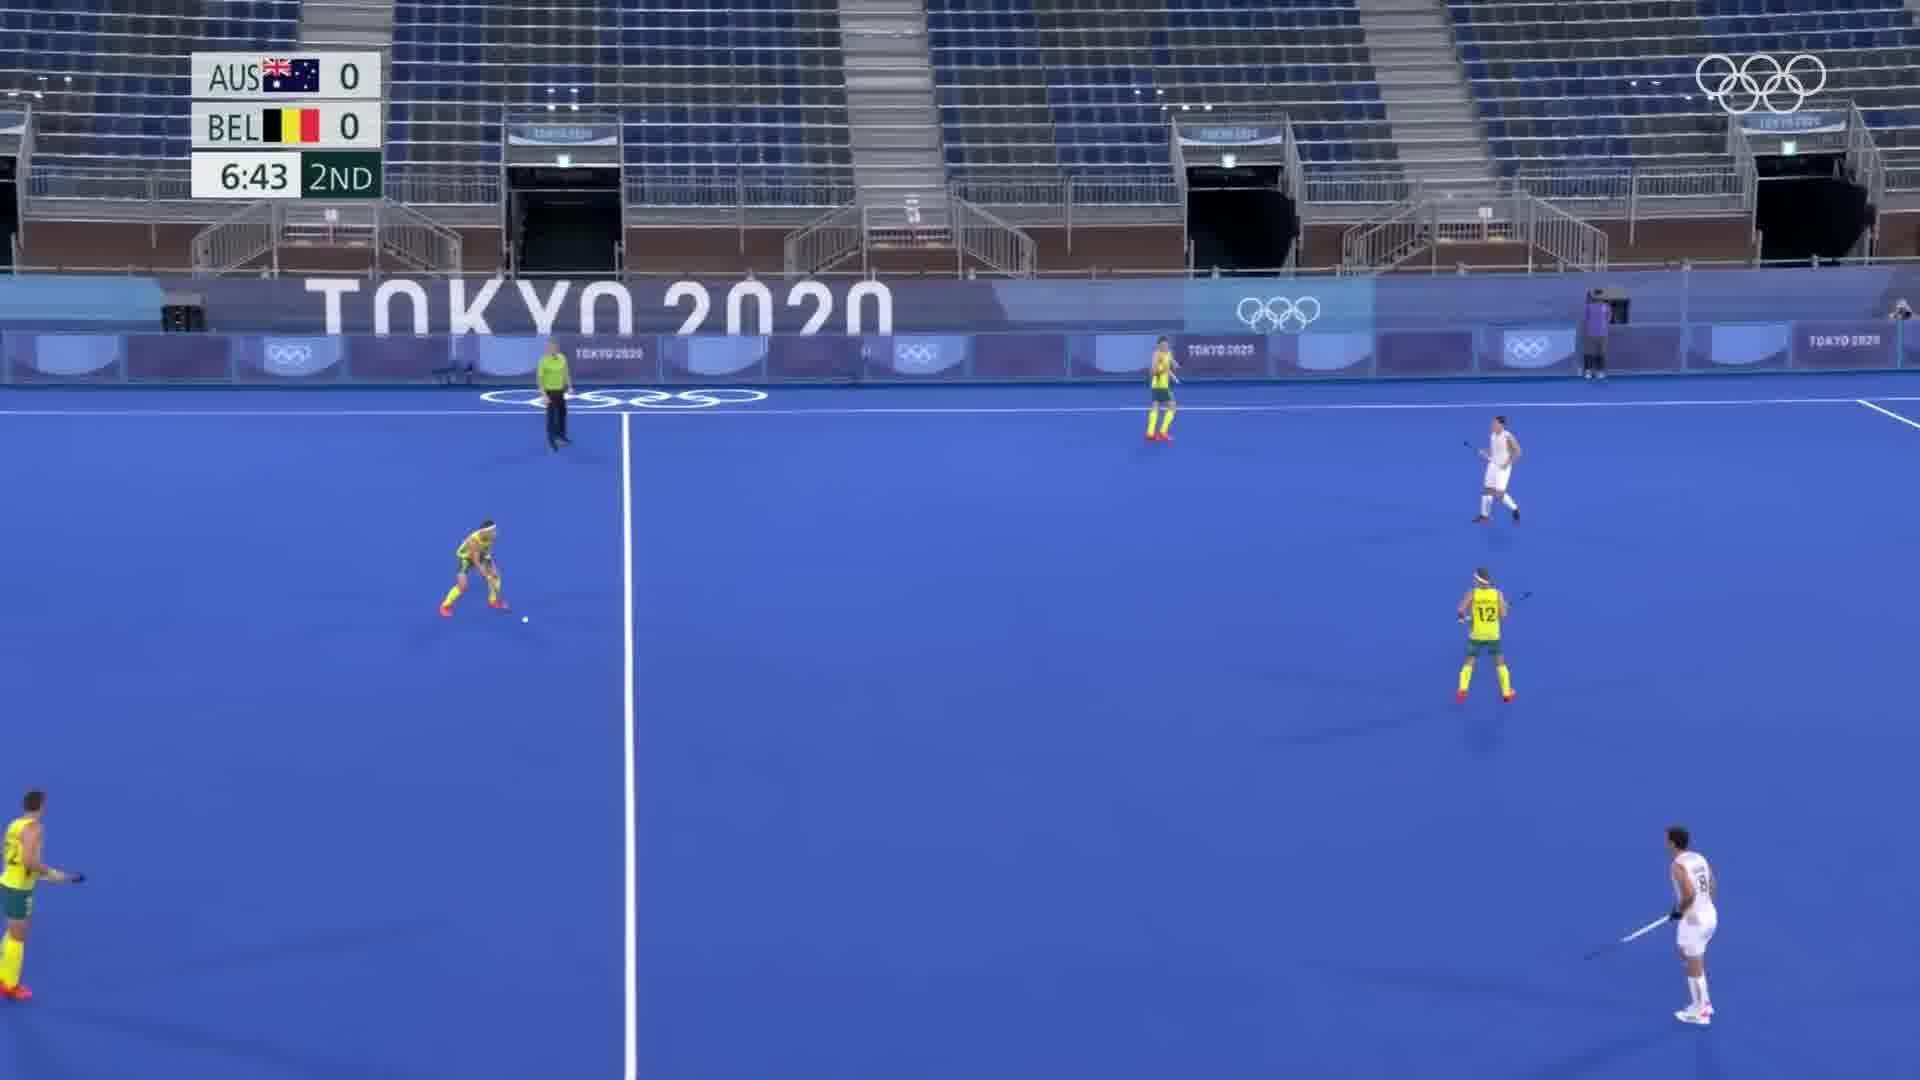ball: (518, 611, 531, 628)
